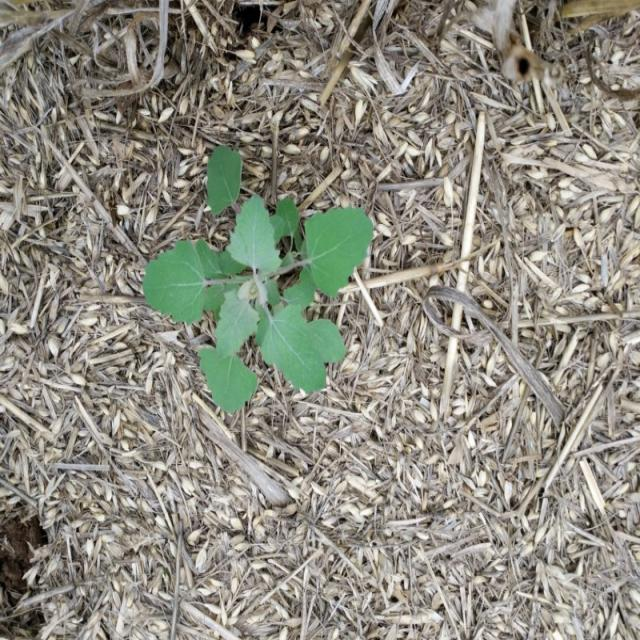goosefoots: (139, 141, 372, 404)
